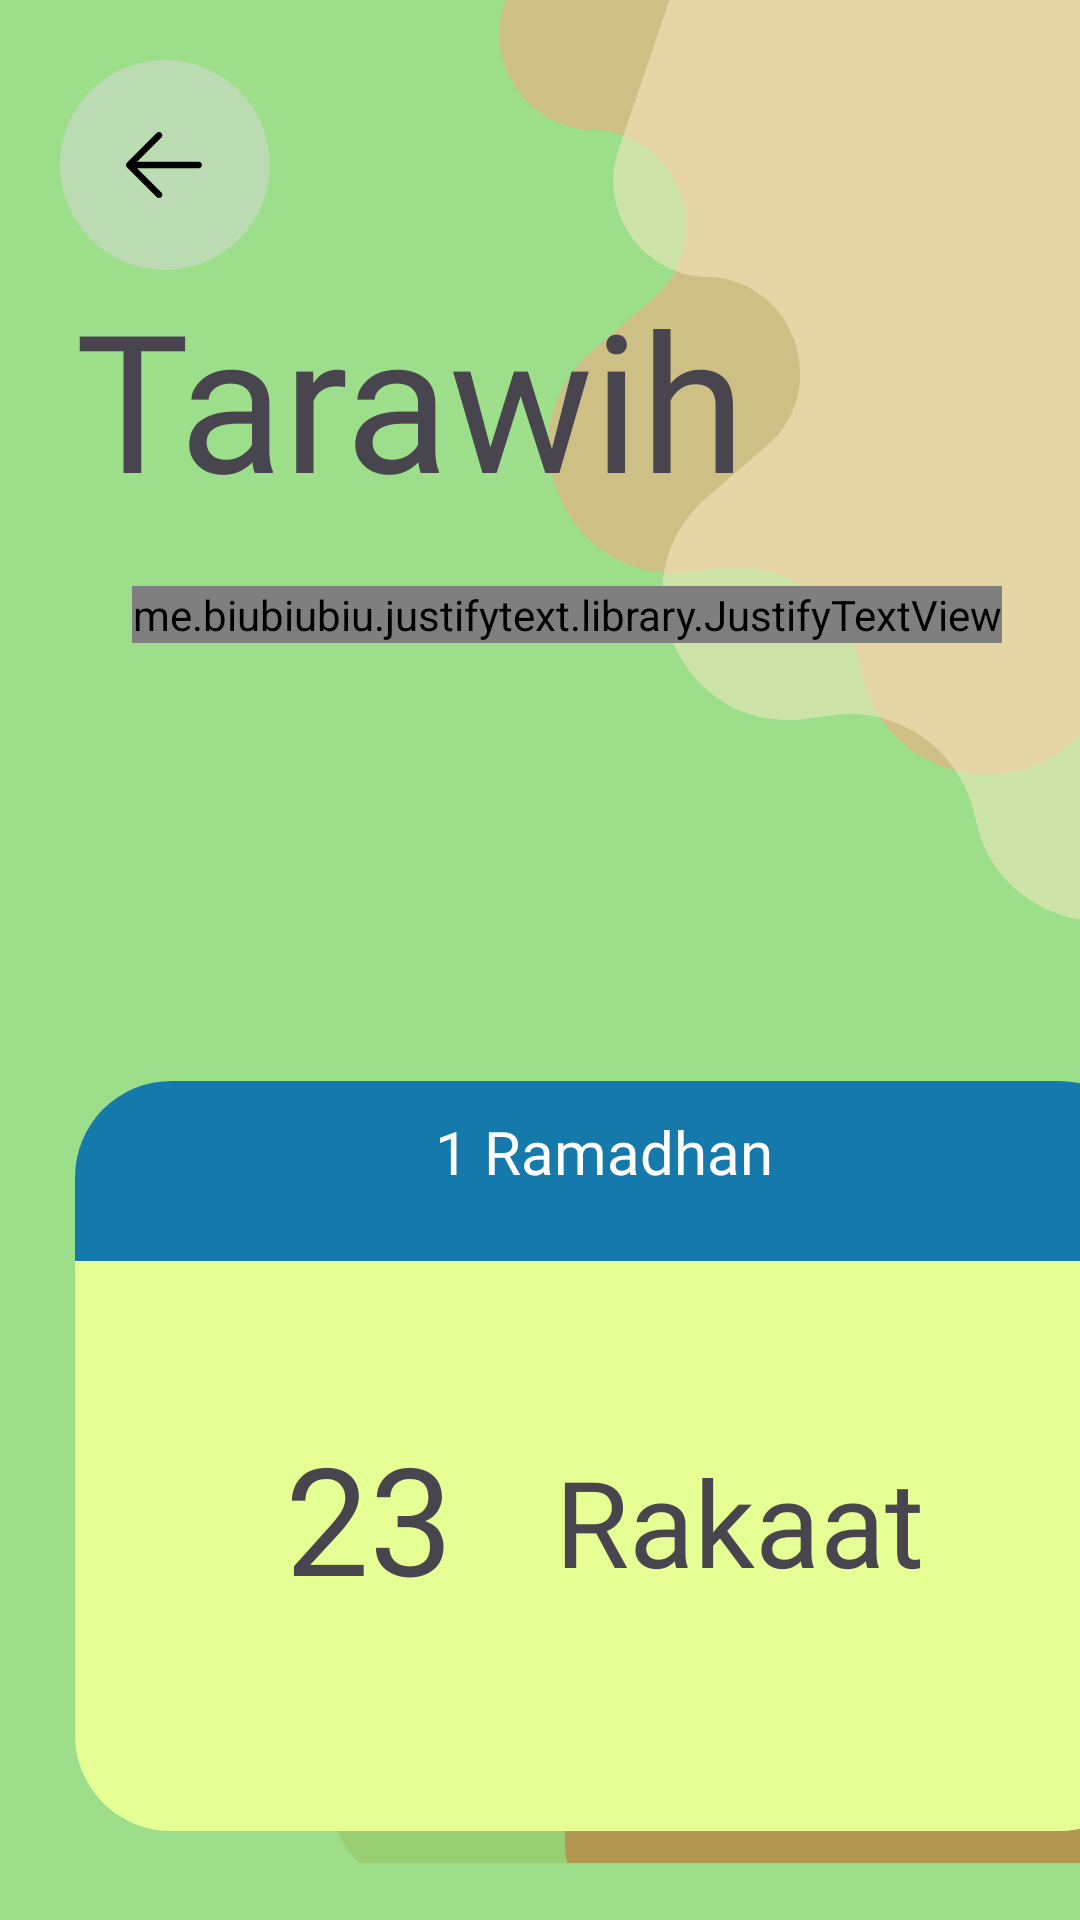

Named icons in this screenshot (1080px×1920px) and their centers, (x=x, y=y):
backbutton: (x=165, y=165)
